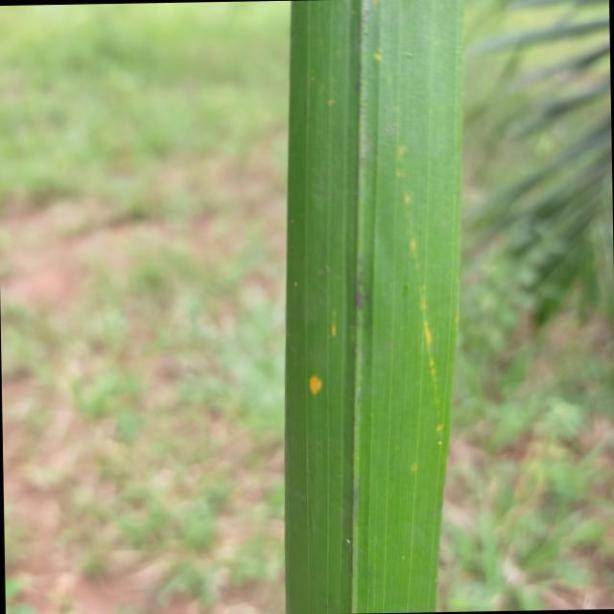Kalium: (286, 0, 466, 614)
